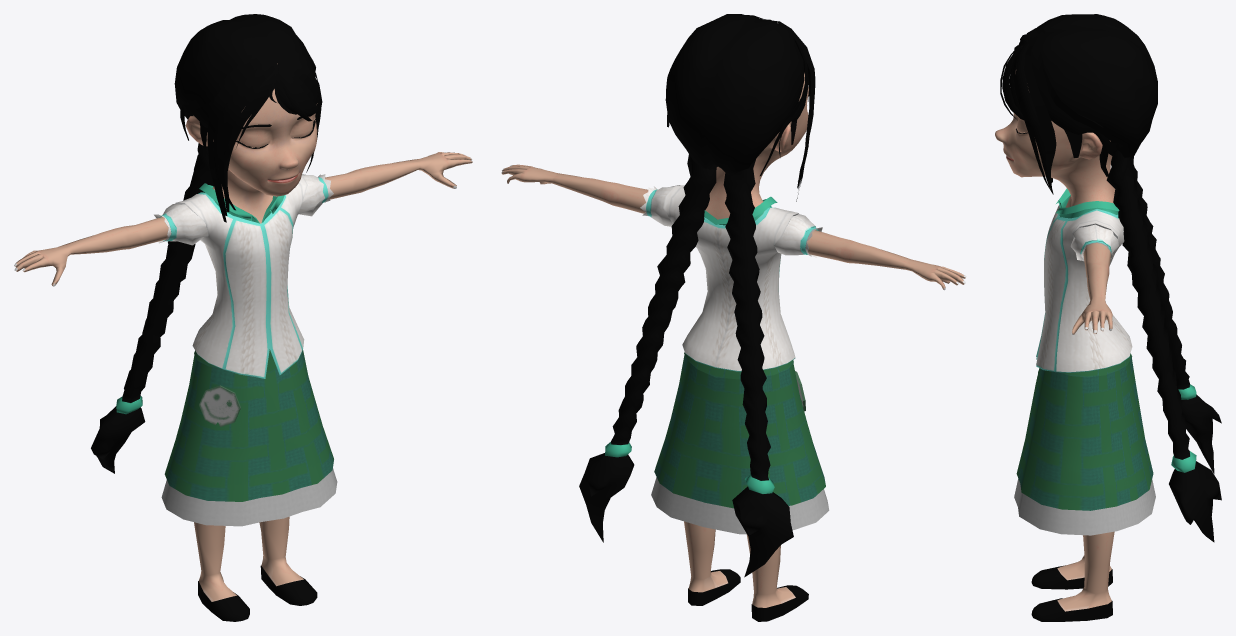
File: LucyMeshMixo.fbx
The picture shows the model from 3 angles, left to right: view 1: azimuth 30°, elevation 25°; view 2: azimuth 150°, elevation 25°; view 3: azimuth 270°, elevation 25°; orthographic projection.
Parts seen in each view (by area): view 1: Mesh_Skirt01, Mesh_Hair01, Mesh_Shirt01, Mesh_Head01, Mesh_Braids01, Mesh_arms01, Mesh_Legs01, Mesh_PettyCoat01, Mesh_Sleeves01, Mesh_Badge01, Mesh_Shirt_Collar02; view 2: Mesh_Braids01, Mesh_Hair01, Mesh_Skirt01, Mesh_Shirt01, Mesh_arms01, Mesh_Legs01, Mesh_PettyCoat01, Mesh_Head01, Mesh_Sleeves01; view 3: Mesh_Hair01, Mesh_Skirt01, Mesh_Braids01, Mesh_Shirt01, Mesh_Head01, Mesh_Legs01, Mesh_PettyCoat01, Mesh_arms01, Mesh_Sleeves01, Mesh_Shirt_Collar02.
Part boxes in pixels (x1,y1,x2,y2): Mesh_Skirt01: [164, 349, 333, 501]; Mesh_Hair01: [174, 14, 322, 222]; Mesh_Shirt01: [177, 175, 307, 378]; Mesh_Head01: [185, 63, 317, 223]; Mesh_Braids01: [91, 143, 213, 473]; Mesh_arms01: [14, 152, 472, 286]; Mesh_Legs01: [194, 516, 317, 621]; Mesh_PettyCoat01: [161, 468, 337, 526]; Mesh_Sleeves01: [154, 174, 333, 245]; Mesh_Badge01: [199, 385, 240, 426]; Mesh_Shirt_Collar02: [199, 183, 284, 223]; Mesh_Braids01: [579, 154, 793, 577]; Mesh_Hair01: [665, 14, 815, 201]; Mesh_Skirt01: [654, 352, 825, 508]; Mesh_Shirt01: [663, 185, 798, 371]; Mesh_arms01: [501, 164, 966, 290]; Mesh_Legs01: [684, 521, 808, 621]; Mesh_PettyCoat01: [651, 477, 829, 534]; Mesh_Head01: [705, 73, 808, 219]; Mesh_Sleeves01: [640, 185, 822, 257]; Mesh_Hair01: [1000, 14, 1157, 194]; Mesh_Skirt01: [1016, 353, 1153, 510]; Mesh_Braids01: [1106, 150, 1221, 542]; Mesh_Shirt01: [1036, 205, 1132, 372]; Mesh_Head01: [995, 69, 1115, 207]; Mesh_Legs01: [1031, 531, 1114, 621]; Mesh_PettyCoat01: [1014, 478, 1155, 535]; Mesh_arms01: [1071, 243, 1112, 334]; Mesh_Sleeves01: [1070, 224, 1118, 261]; Mesh_Shirt_Collar02: [1056, 188, 1119, 218].
Size of the model in its own units: 23.68 by 28.12 by 10.09.
Materials: 3 (1 with a texture image).
